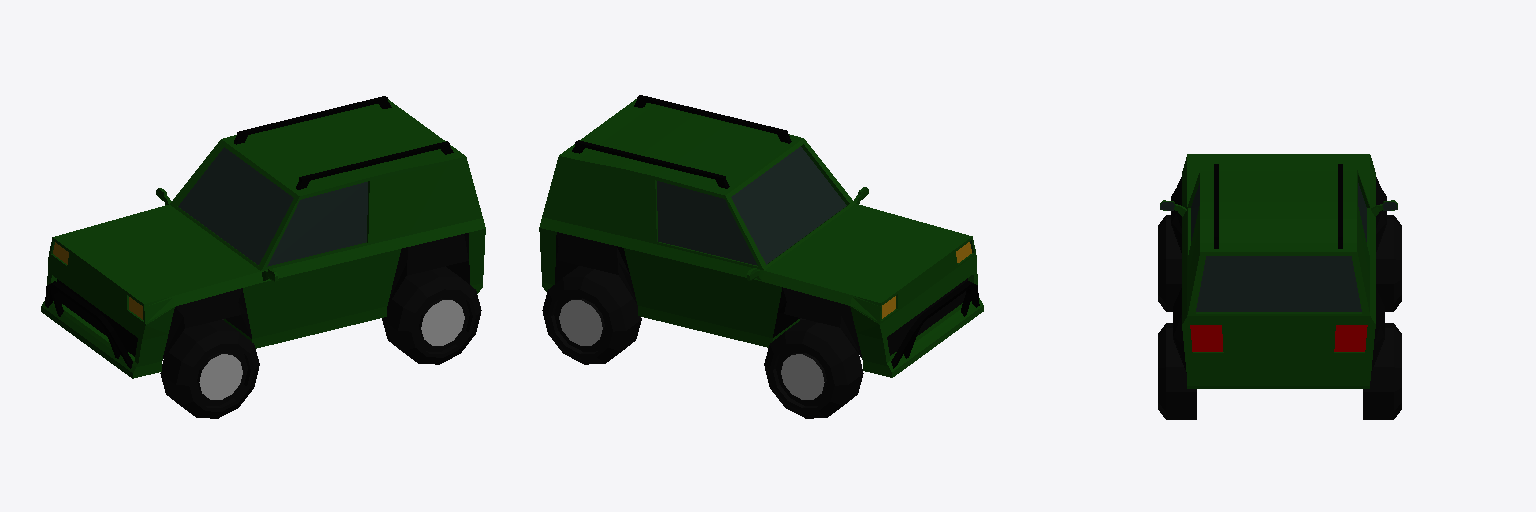
File: offroadcar.obj
The picture shows the model from 3 angles: view 1: azimuth 30°, elevation 25°; view 2: azimuth 150°, elevation 25°; view 3: azimuth 270°, elevation 25°; orthographic projection.
Visible parts, largest first — view 1: body_Cube, wheelfl_Cylinder.030, wheelbl_Cylinder.001, Cube.004, roofrackr_Cube.003, roofrackl_Cube.002; view 2: body_Cube, wheelfr_Cylinder.002, wheelbr_Cylinder.003, Cube.004, roofrackl_Cube.002, roofrackr_Cube.003; view 3: body_Cube, wheelbr_Cylinder.003, wheelbl_Cylinder.001, wheelfr_Cylinder.002, wheelfl_Cylinder.030.
Part boxes in pixels (x1,y1,x2,y2): body_Cube: (41, 99, 485, 378); wheelfl_Cylinder.030: (160, 320, 259, 418); wheelbl_Cylinder.001: (382, 266, 481, 364); Cube.004: (45, 281, 132, 368); roofrackr_Cube.003: (234, 96, 391, 144); roofrackl_Cube.002: (296, 141, 453, 189); body_Cube: (539, 99, 983, 377); wheelfr_Cylinder.002: (764, 320, 863, 418); wheelbr_Cylinder.003: (542, 266, 641, 364); Cube.004: (891, 281, 979, 368); roofrackl_Cube.002: (634, 95, 791, 143); roofrackr_Cube.003: (572, 140, 729, 188); body_Cube: (1160, 154, 1397, 388); wheelbr_Cylinder.003: (1363, 323, 1401, 419); wheelbl_Cylinder.001: (1158, 323, 1196, 419); wheelfr_Cylinder.002: (1376, 215, 1401, 311); wheelfl_Cylinder.030: (1158, 215, 1181, 311).
Bounding box in the file's own units: 5.12 × 2.65 × 2.99.